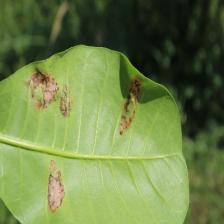leaf miner: (23, 63, 78, 119), (111, 67, 149, 136), (43, 153, 70, 218)
